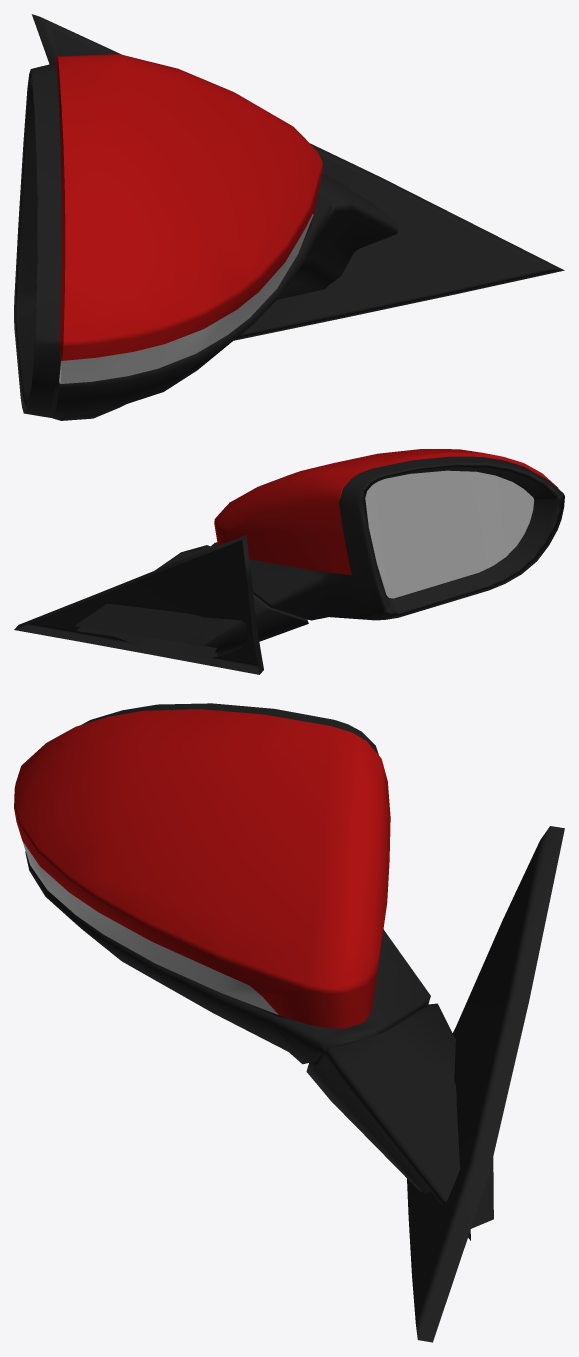
The picture shows the model from 3 angles, top to bottom: view 1: azimuth 30°, elevation 25°; view 2: azimuth 150°, elevation 25°; view 3: azimuth 270°, elevation 25°; orthographic projection. The views are drawn at different scales.
Parts seen in each view (by area): view 1: Y175_18_281I_R_1_DaS_Y175_18_281I_R, Y175_18_281I_R_Y175_18_281I_R_2_D, Y175_18_281I_R_Y175_18_281I_R_4_DaS, Y175_18_281I_R_1_DaS_Y175_18_281I_R_E; view 2: Y175_18_281I_R_Y175_18_281I_R_2_D, Y175_18_281I_R_Y175_18_281I_R_3_DTaSI, Y175_18_281I_R_1_DaS_Y175_18_281I_R, Y175_18_281I_R_1_DaS_Y175_18_281I_R_E; view 3: Y175_18_281I_R_1_DaS_Y175_18_281I_R, Y175_18_281I_R_Y175_18_281I_R_2_D, Y175_18_281I_R_Y175_18_281I_R_4_DaS.
Part boxes in pixels (x1,y1,x2,y2): Y175_18_281I_R_1_DaS_Y175_18_281I_R: [57, 54, 322, 360]; Y175_18_281I_R_Y175_18_281I_R_2_D: [14, 14, 564, 420]; Y175_18_281I_R_Y175_18_281I_R_4_DaS: [59, 214, 313, 383]; Y175_18_281I_R_1_DaS_Y175_18_281I_R_E: [55, 56, 65, 360]; Y175_18_281I_R_Y175_18_281I_R_2_D: [14, 456, 564, 674]; Y175_18_281I_R_Y175_18_281I_R_3_DTaSI: [365, 470, 534, 598]; Y175_18_281I_R_1_DaS_Y175_18_281I_R: [214, 449, 498, 572]; Y175_18_281I_R_1_DaS_Y175_18_281I_R_E: [330, 453, 558, 574]; Y175_18_281I_R_1_DaS_Y175_18_281I_R: [14, 709, 390, 1028]; Y175_18_281I_R_Y175_18_281I_R_2_D: [25, 703, 564, 1342]; Y175_18_281I_R_Y175_18_281I_R_4_DaS: [22, 841, 278, 1014].
Size of the model in its own units: 40.52 by 19.93 by 27.73.
